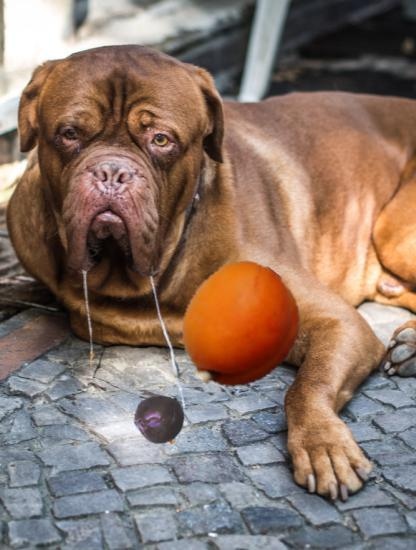Apricot: (175, 262, 305, 392)
Passion: (134, 393, 187, 446)
